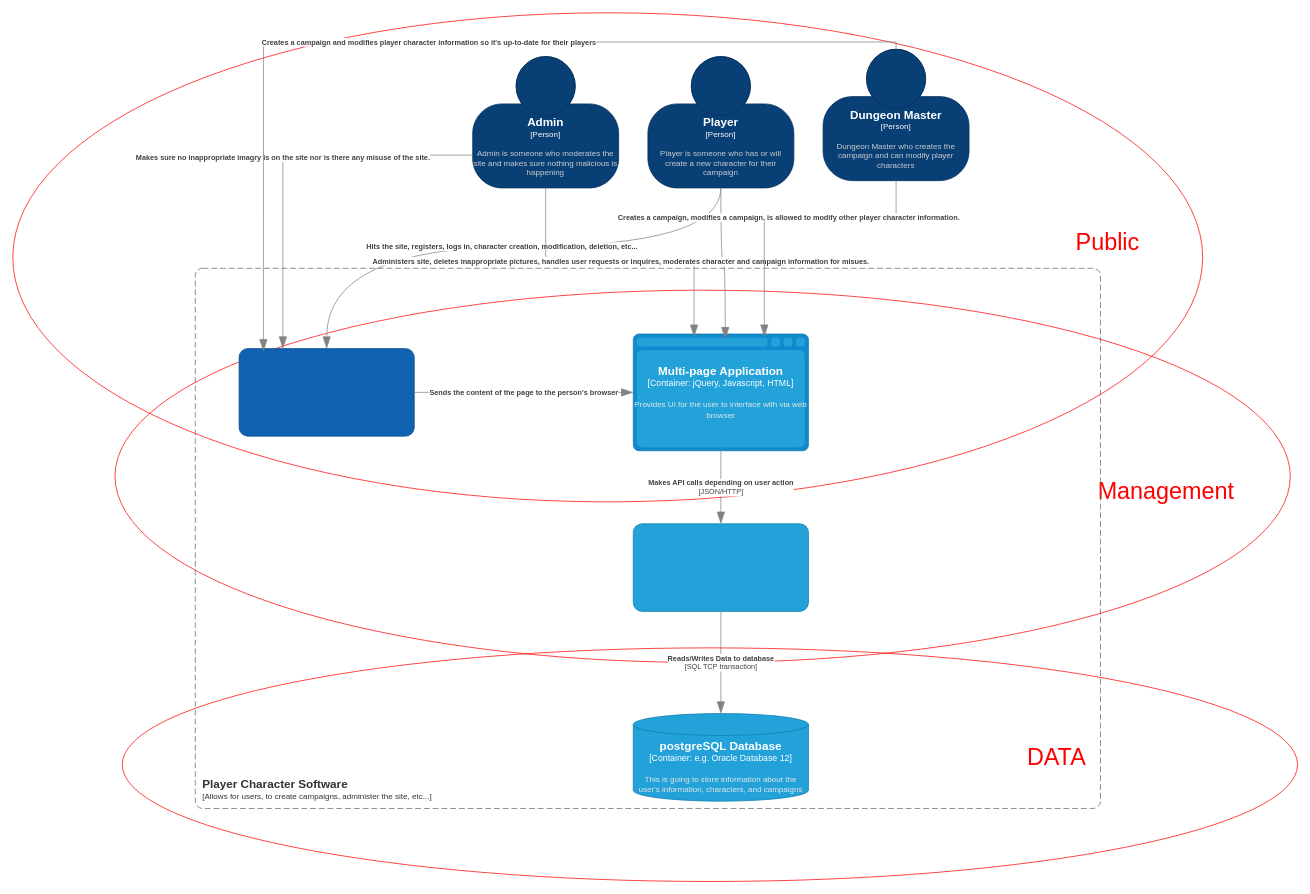
The diagram is 1310 pixels wide and 894 high, and some of its shapes have lost their labels. Each missing label, with the box of its shape:
Django [Software System] Django Web App: (238, 348, 414, 436)
REST API [Container: Django] Django API back-end: (633, 523, 808, 611)
